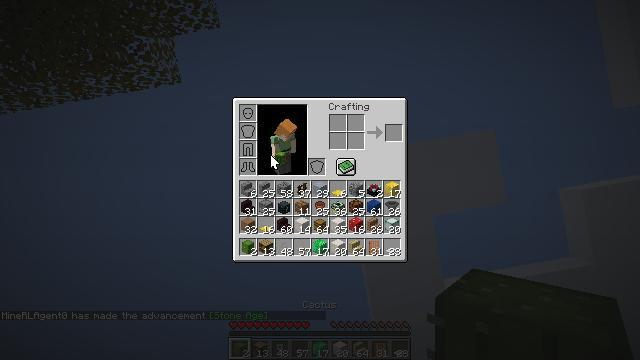cursor: (270, 154, 280, 170)
